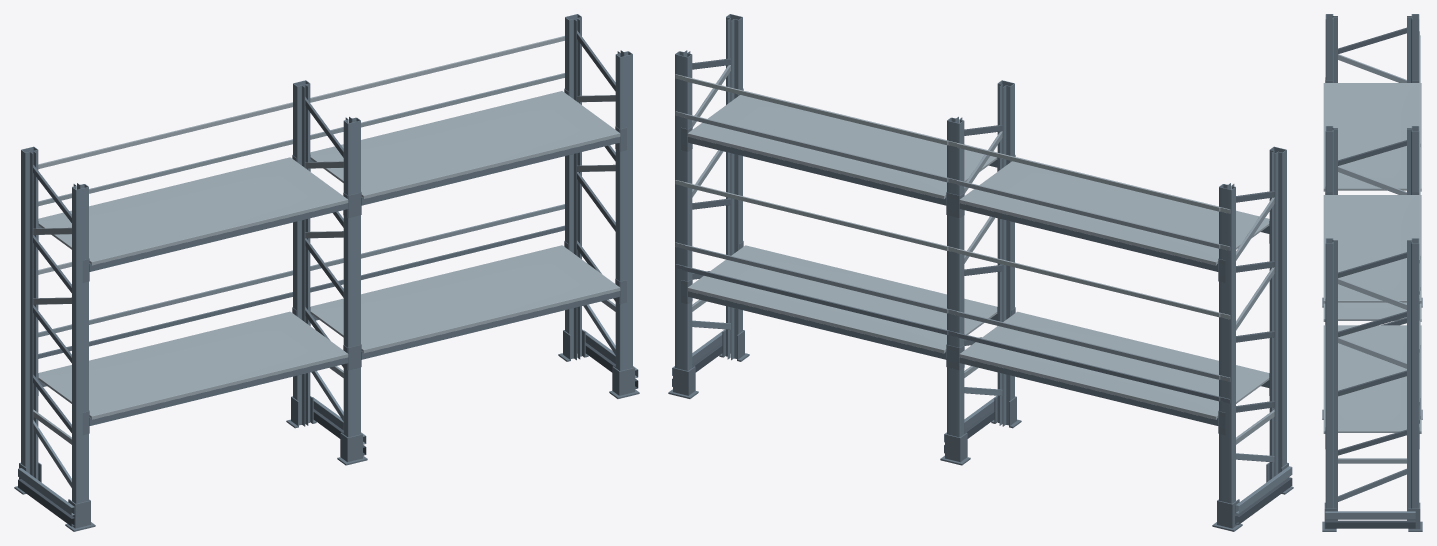
The model's file is SM_ShelfEmptyx2_White_B.fbx.
3 renders of one model, left to right at view 1: azimuth 30°, elevation 25°; view 2: azimuth 150°, elevation 25°; view 3: azimuth 270°, elevation 25°, orthographic. The views are drawn at different scales.
Parts seen in each view (by area): view 1: SM_ShelfEmptyx2_White_B; view 2: SM_ShelfEmptyx2_White_B; view 3: SM_ShelfEmptyx2_White_B.
Part boxes in pixels (x1,y1,x2,y2): SM_ShelfEmptyx2_White_B: (14, 14, 639, 531); SM_ShelfEmptyx2_White_B: (668, 14, 1293, 531); SM_ShelfEmptyx2_White_B: (1322, 14, 1422, 531).
Size of the model in its own units: 646 by 370 by 118.
